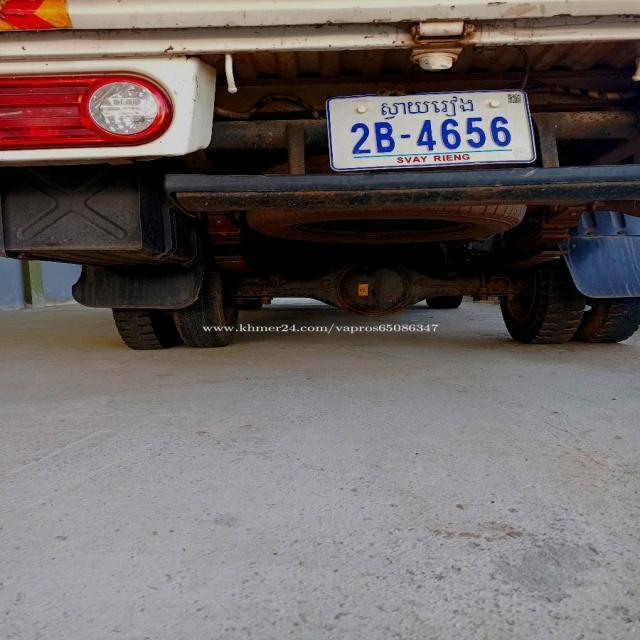Svay_Rieng: (379, 93, 475, 121)
